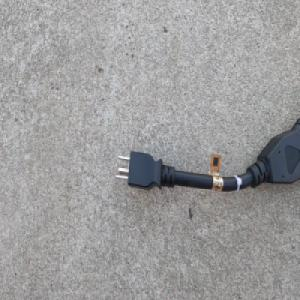Wire: (114, 117, 300, 202)
